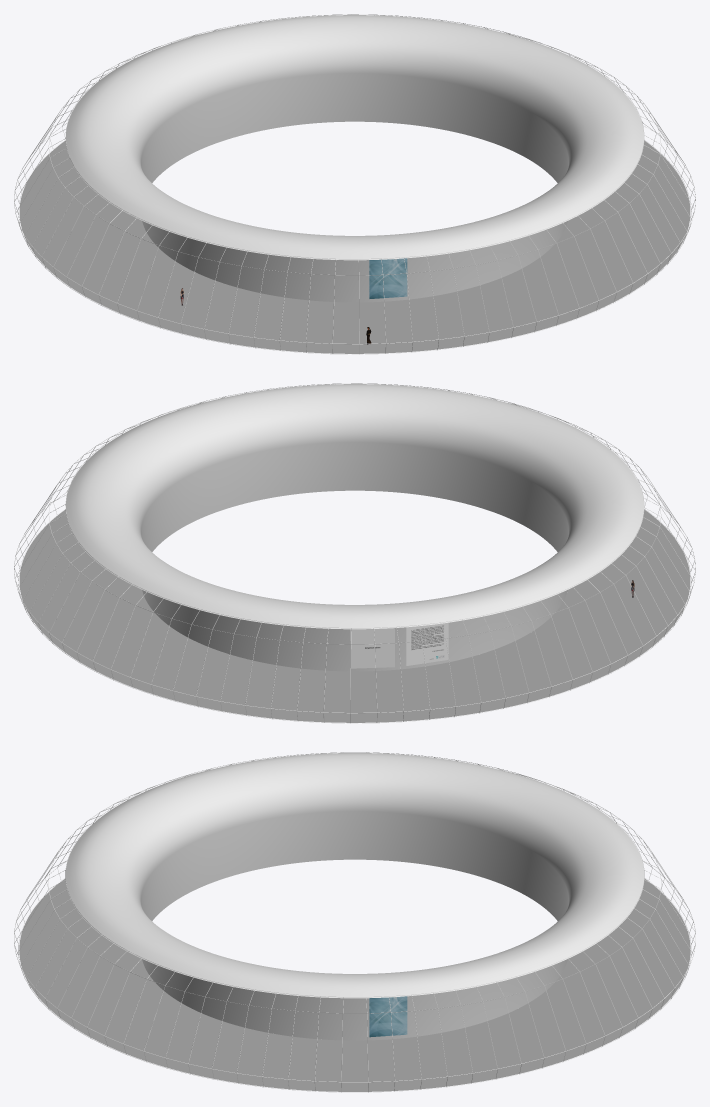
File: 210315_ring.glb
3 views of the same model, one above another, from view 1: azimuth 30°, elevation 25°; view 2: azimuth 150°, elevation 25°; view 3: azimuth 270°, elevation 25° (orthographic).
Parts seen in each view (by area): view 1: roof, floor, window, Plane.009; view 2: roof, floor, window, Plane.007, Plane.008; view 3: roof, floor, window, Plane.006.
Boxes of the visible parts, box(x1,y1,x2,y2) form: roof: box(65, 15, 644, 302); floor: box(19, 140, 690, 353); window: box(14, 14, 695, 354); Plane.009: box(369, 258, 407, 298); roof: box(65, 384, 644, 671); floor: box(19, 509, 690, 722); window: box(14, 383, 695, 723); Plane.007: box(350, 628, 394, 668); Plane.008: box(406, 622, 448, 665); roof: box(65, 753, 644, 1040); floor: box(19, 879, 690, 1091); window: box(14, 752, 695, 1092); Plane.006: box(369, 996, 407, 1037).
Bounding box in the file's own units: 57.44 × 7.61 × 57.44.
9 materials, 5 textured.
